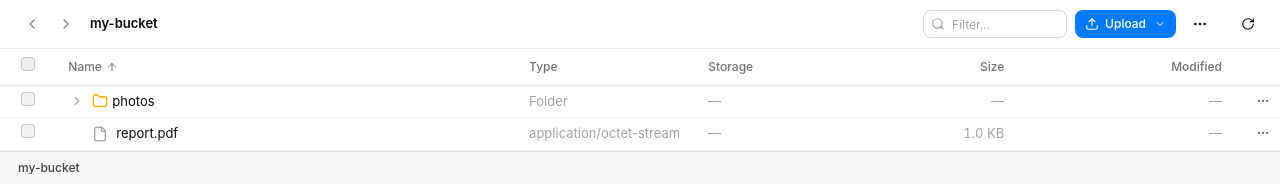
ObjectBrowser selection / checkbox behaviour › header checkbox selects all visible rows, and clears them when toggled off
This screenshot has width=1280, height=192.
Expected: the text "report.pdf" is shown, [116, 125, 178, 141]
Expected: the checkbox named "Select report.pdf" is not checked, [21, 124, 35, 138]
Click the checkbox named "Select all" at [28, 64], box [21, 57, 35, 71]
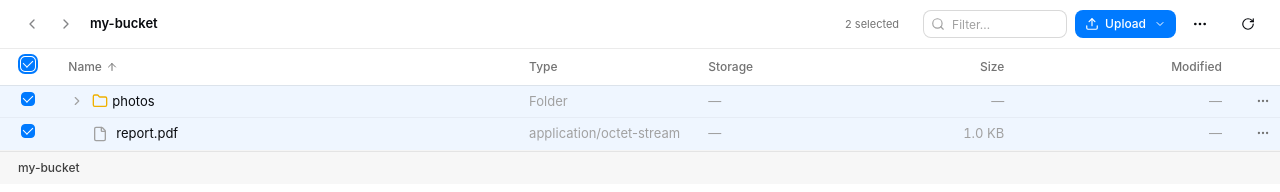
Result: the checkbox named "Select all" is checked
Result: the checkbox named "Select report.pdf" is checked at [21, 124, 35, 138]
Result: the checkbox named "Select photos" is checked at [21, 92, 35, 106]
Click the checkbox named "Select all" at [28, 64], box [21, 57, 35, 71]
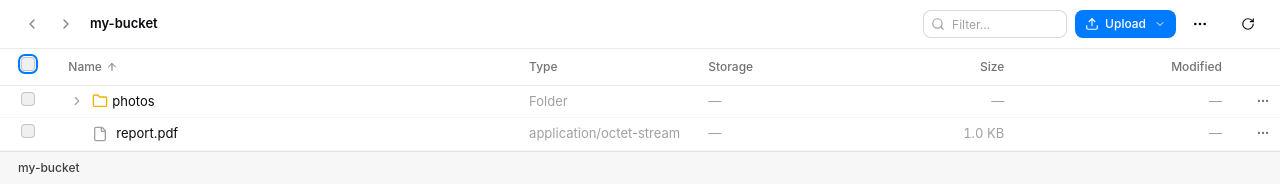
Result: the checkbox named "Select all" is not checked at [21, 57, 35, 71]
Result: the checkbox named "Select report.pdf" is not checked at [21, 124, 35, 138]
Result: the checkbox named "Select photos" is not checked at [21, 92, 35, 106]
